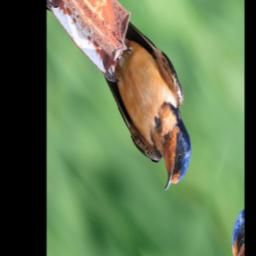Swallow: (89, 0, 209, 205)
